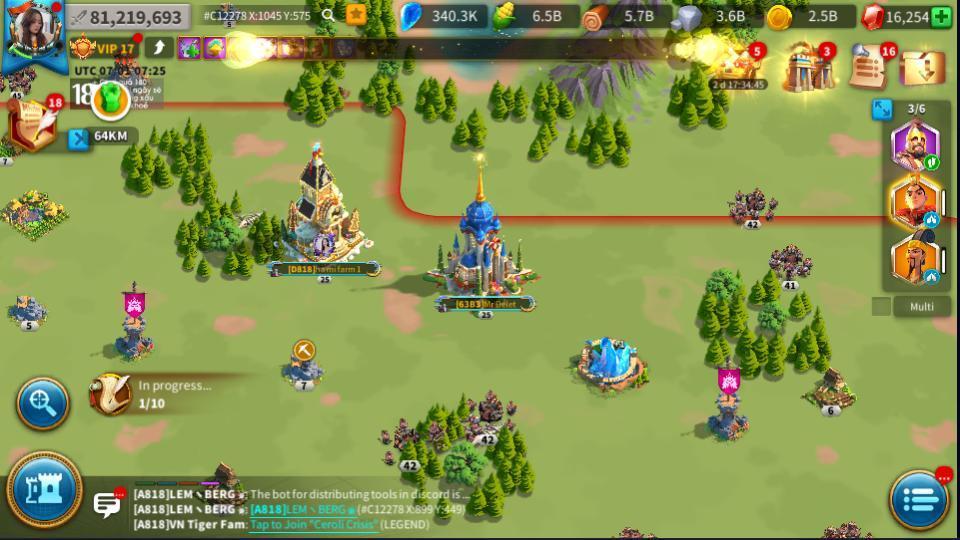march_idle: (923, 271, 939, 283), (923, 213, 938, 225)
march_marching: (922, 156, 938, 169)
